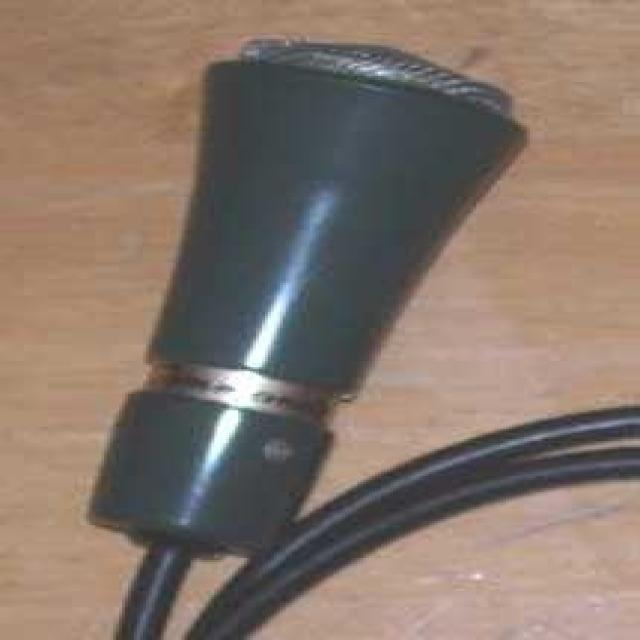microphone: (92, 45, 528, 551)
